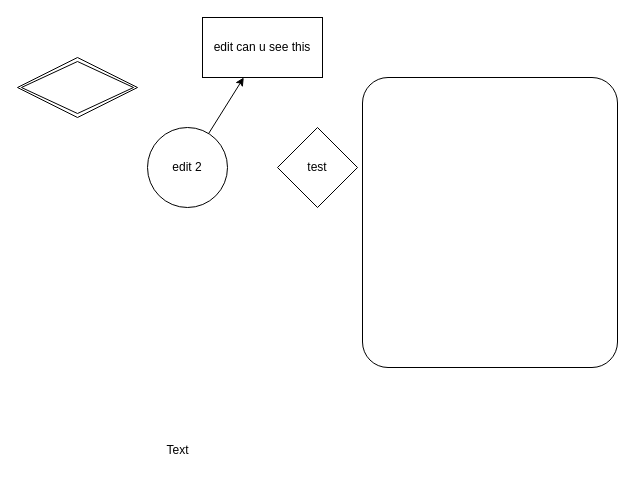
Some shapes in this 635 by 483 pixel diagram are drawn without their labels. Here are the shapes that lost their labels. From the top down, the centre of each, then its label:
At point (77, 87): "Relationship".
At point (490, 222): "Entity".
